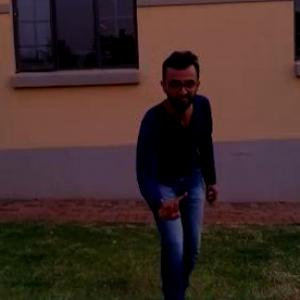takeoff-hand: (152, 178, 190, 227)
